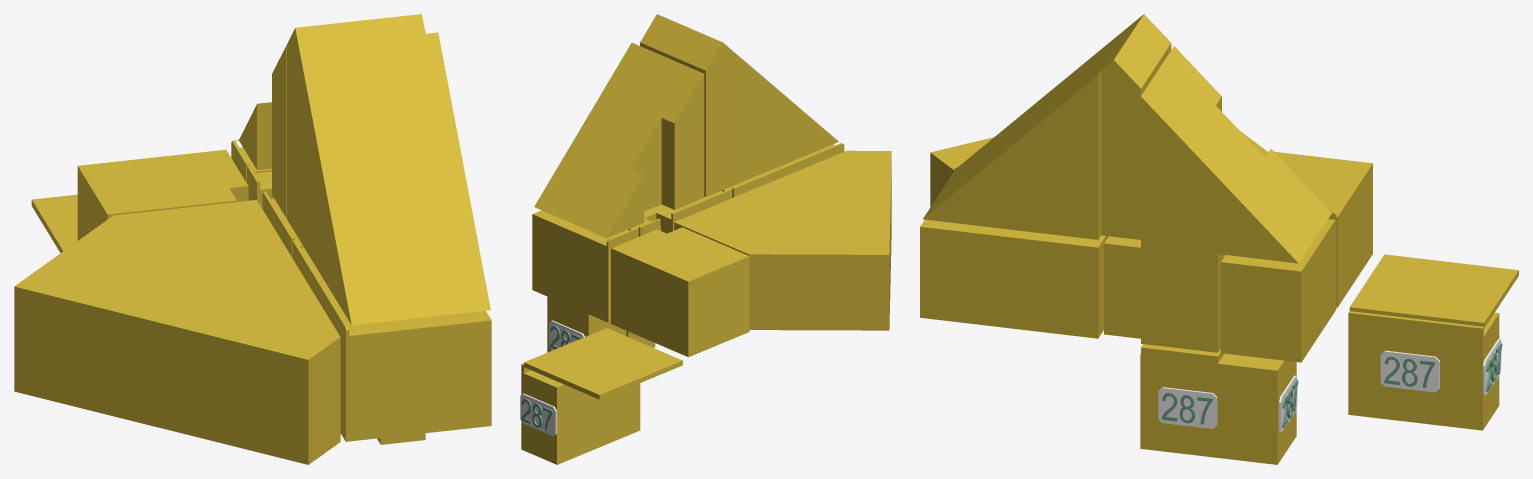
The picture shows the model from 3 angles, left to right: view 1: azimuth 30°, elevation 25°; view 2: azimuth 150°, elevation 25°; view 3: azimuth 270°, elevation 25°; orthographic projection. The views are drawn at different scales.
Parts seen in each view (by area): view 1: g_5, g_2, g_6, g_10, g_3, g_13, g_7, g_9; view 2: g_5, g_3, g_10, g_2, g_9, g_1, g_13, g_4, g_7, g_6, g_0, g_29 (+1 smaller); view 3: g_2, g_6, g_3, g_1, g_9, g_4, g_13, g_12, g_11, g_10, g_0, g_8 (+3 smaller).
Boxes of the visible parts, x1=… form: g_5: x1=14, y1=200, x2=340, y2=464; g_2: x1=287, y1=14, x2=490, y2=325; g_6: x1=292, y1=240, x2=491, y2=441; g_10: x1=77, y1=149, x2=248, y2=240; g_3: x1=232, y1=45, x2=286, y2=217; g_13: x1=31, y1=194, x2=77, y2=252; g_7: x1=247, y1=165, x2=303, y2=257; g_9: x1=231, y1=141, x2=271, y2=182; g_5: x1=674, y1=150, x2=891, y2=330; g_3: x1=534, y1=54, x2=704, y2=240; g_10: x1=611, y1=227, x2=749, y2=357; g_2: x1=640, y1=14, x2=838, y2=196; g_9: x1=532, y1=210, x2=638, y2=322; g_1: x1=521, y1=363, x2=640, y2=464; g_13: x1=524, y1=328, x2=682, y2=399; g_4: x1=584, y1=43, x2=657, y2=133; g_7: x1=628, y1=189, x2=732, y2=236; g_6: x1=721, y1=143, x2=844, y2=197; g_0: x1=547, y1=296, x2=626, y2=352; g_29: x1=520, y1=393, x2=556, y2=436; g_2: x1=923, y1=14, x2=1171, y2=239; g_6: x1=920, y1=167, x2=1108, y2=338; g_3: x1=1153, y1=46, x2=1334, y2=263; g_1: x1=1348, y1=311, x2=1499, y2=430; g_9: x1=1220, y1=211, x2=1336, y2=362; g_4: x1=1141, y1=78, x2=1229, y2=254; g_13: x1=1349, y1=254, x2=1518, y2=328; g_12: x1=1140, y1=344, x2=1241, y2=459; g_11: x1=1141, y1=245, x2=1224, y2=352; g_10: x1=1274, y1=151, x2=1372, y2=307; g_0: x1=1235, y1=355, x2=1296, y2=464; g_8: x1=1104, y1=236, x2=1140, y2=338.
Size of the model in its own units: 10.27 by 10.1 by 14.37.
